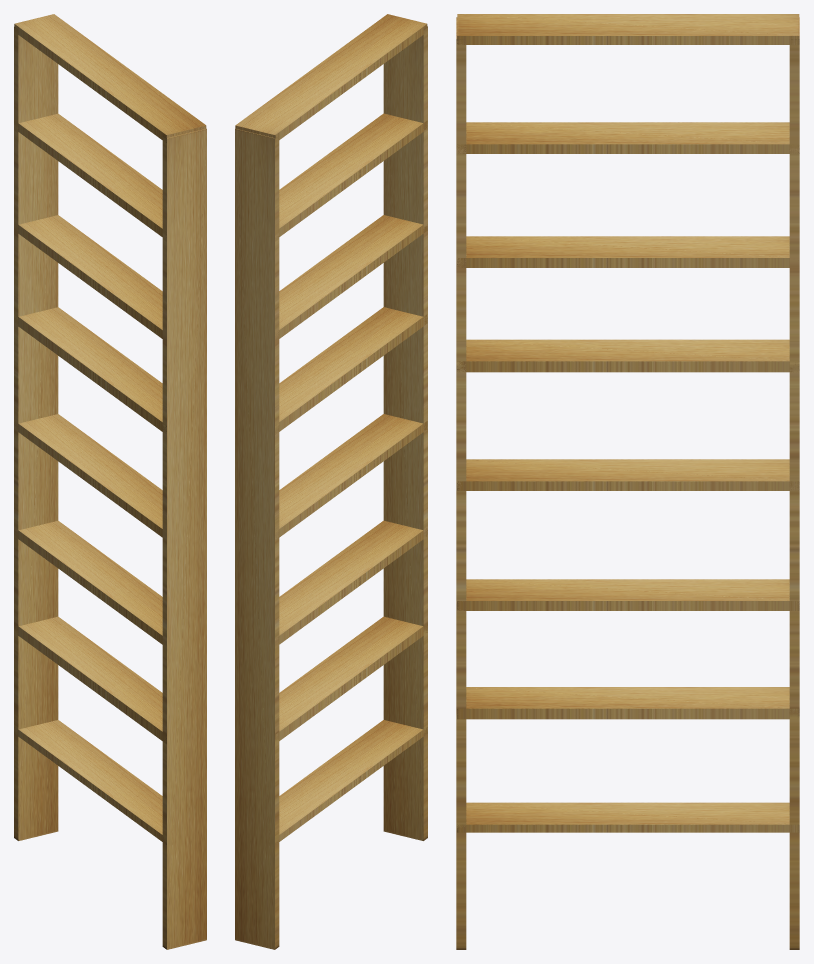
Rendered from Wall_CDshelf.fbx.
3 renders of one model, left to right at view 1: azimuth 30°, elevation 25°; view 2: azimuth 150°, elevation 25°; view 3: azimuth 270°, elevation 25°, orthographic. The views are drawn at different scales.
Visible parts, largest first — view 1: Plane.009; view 2: Plane.009; view 3: Plane.009.
Boxes of the visible parts, x1,y1,x2,y2 form: Plane.009: [14, 14, 206, 949]; Plane.009: [235, 14, 427, 949]; Plane.009: [456, 14, 799, 949].
Size of the model in its own units: 82.36 by 1606 by 547.
Materials: 1 (1 with a texture image).
